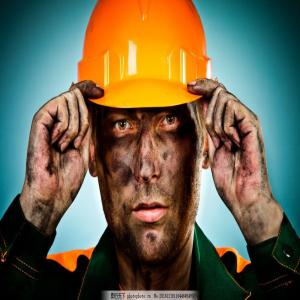yellow: (77, 4, 216, 262)
